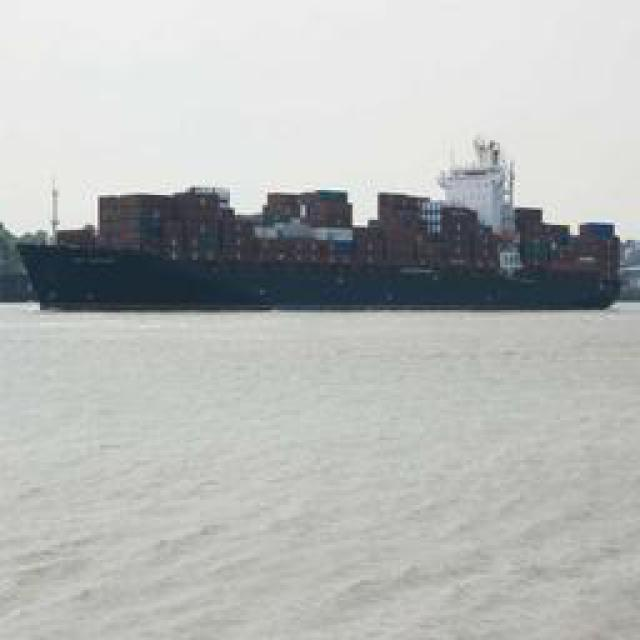Ship: (11, 154, 634, 317)
